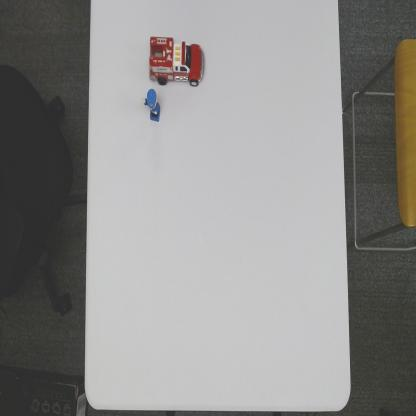Firetruck: (150, 35, 204, 88)
